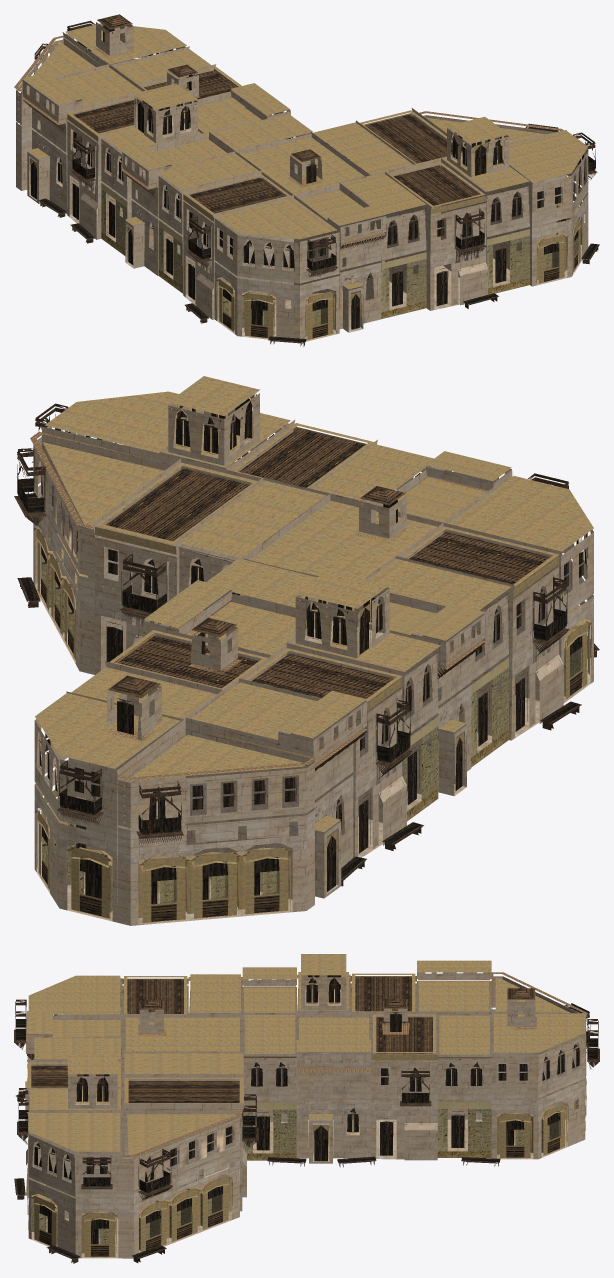
Rendered from arab_house_b.gltf.
3 views of the same model, one above another, from view 1: azimuth 30°, elevation 25°; view 2: azimuth 150°, elevation 25°; view 3: azimuth 270°, elevation 25° (orthographic). The views are drawn at different scales.
Parts seen in each view (by area): view 1: BLOCK_II1_1_PlanksOld0244_7_S_1_.1_0; view 2: BLOCK_II1_1_PlanksOld0244_7_S_1_.1_0; view 3: BLOCK_II1_1_PlanksOld0244_7_S_1_.1_0.
Boxes of the visible parts, left/top/right/bottom form: BLOCK_II1_1_PlanksOld0244_7_S_1_.1_0: left=14, top=14, right=599, bottom=346; BLOCK_II1_1_PlanksOld0244_7_S_1_.1_0: left=14, top=376, right=599, bottom=925; BLOCK_II1_1_PlanksOld0244_7_S_1_.1_0: left=14, top=954, right=599, bottom=1263.
Size of the model in its own units: 25.41 by 8.93 by 32.95.
8 materials, 8 textured.
